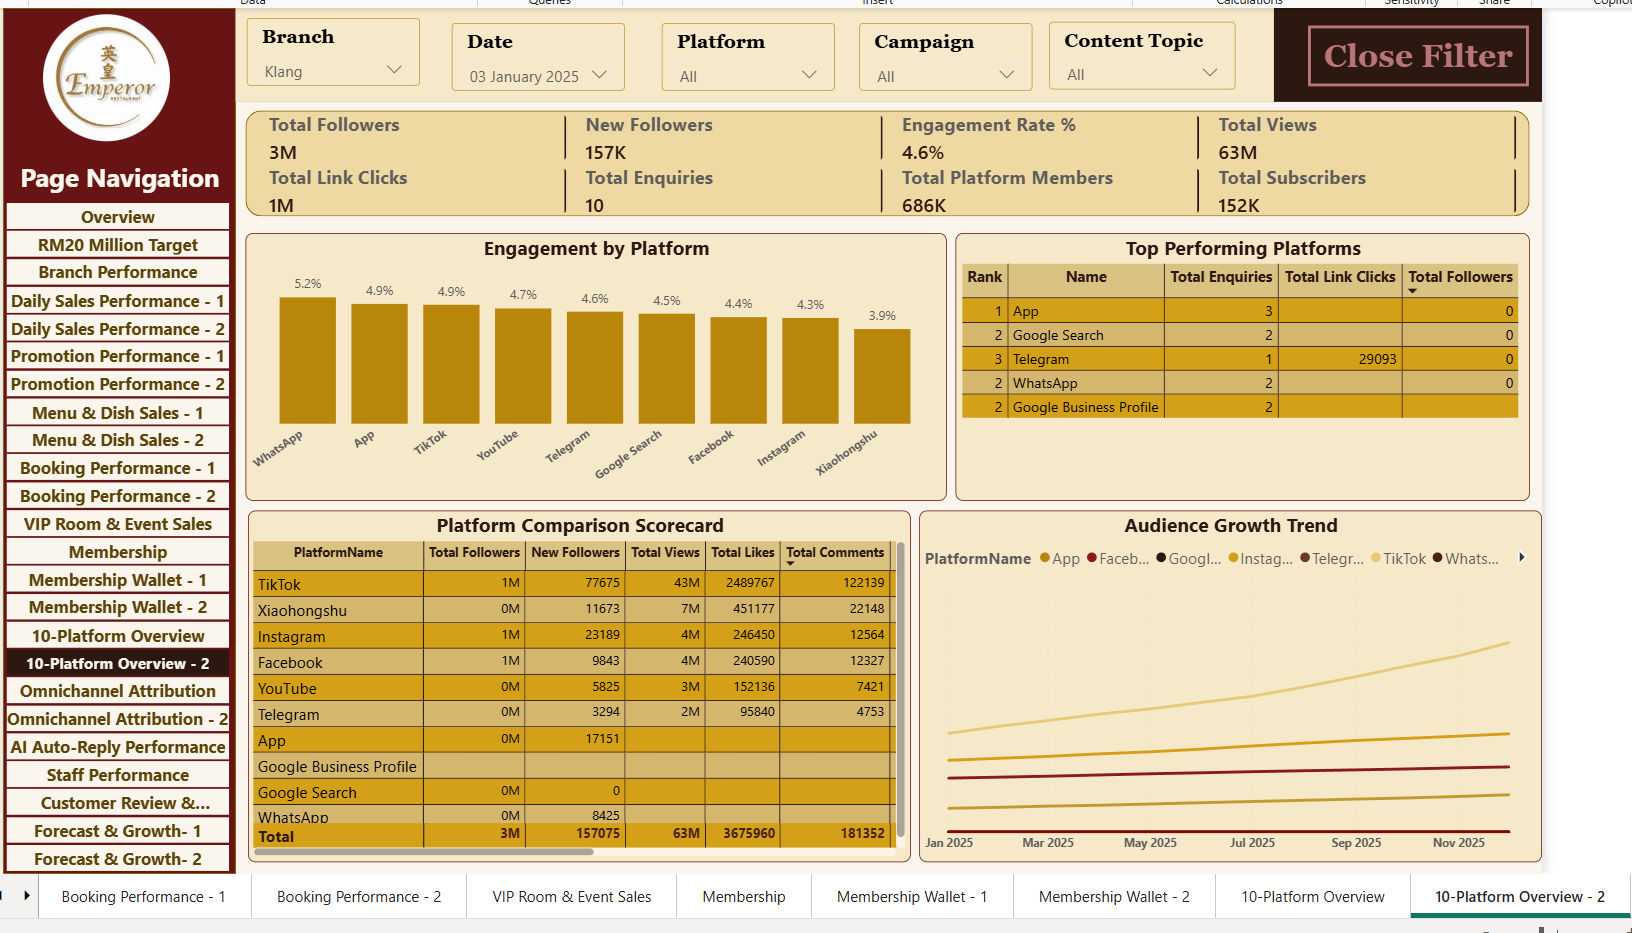

The dashboard page shown, as its layout file describes it:
{"tool":"powerbi","page":{"name":"10-Platform Overview - 2","canvas":[1600,900],"ordinal":16},"visuals":[{"type":"lineChart","title":"Audience Growth Trend","fields":{"Category":["Fact_PlatformFollowers.YearMonth"],"Series":["Dim_Platform.PlatformName"],"Y":["__DAX_Measures.Total Followers"]},"box":[952.8,521.9,647,365.6],"z":0},{"type":"clusteredColumnChart","title":"Engagement by Platform","fields":{"Category":["Dim_Platform.PlatformName"],"Y":["__DAX_Measures.Engagement Rate %"]},"box":[251.4,233.8,728.5,278.6],"z":1000},{"type":"pivotTable","title":"Platform Comparison Scorecard","fields":{"Rows":["Dim_Platform.PlatformName"],"Values":["__DAX_Measures.Total Followers","__DAX_Measures.New Followers","__DAX_Measures.Total Views","__DAX_Measures.Total Likes","__DAX_Measures.Total Comments","__DAX_Measures.Total Shares","__DAX_Measures.Total Link Clicks","__DAX_Measures.Total Enquiries","__DAX_Measures.Engagement Rate %"]},"box":[254.2,521.9,689.1,365.6],"z":2000},{"type":"tableEx","title":"Top Performing Platforms","fields":{"Values":["__DAX_Measures.Platform Rank","Dim_Platform.PlatformName","__DAX_Measures.Total Enquiries","__DAX_Measures.Total Link Clicks","__DAX_Measures.Total Followers"]},"box":[989.5,233.8,596.7,278.6],"z":3000},{"type":"shape","box":[0,0,242,900],"z":4000},{"type":"shape","box":[252.1,106.3,1334.5,110],"z":5000},{"type":"cardVisual","fields":{"Data":["__DAX_Measures.Total Followers","__DAX_Measures.New Followers","__DAX_Measures.Engagement Rate %","__DAX_Measures.Total Views","__DAX_Measures.Total Link Clicks","__DAX_Measures.Total Enquiries","__DAX_Measures.Total Platform Members","__DAX_Measures.Total Subscribers"]},"box":[253.9,99.5,1332.8,125.2],"z":6000},{"type":"textbox","box":[241.9,0,1358.5,97.8],"z":7000},{"type":"shape","box":[241.9,0,1078.9,97.8],"z":8000},{"type":"slicer","fields":{"Values":["Dim_Date.Date"]},"box":[466.6,15.4,180.1,70.3],"z":9000},{"type":"slicer","fields":{"Values":["Dim_Branch.BranchName"]},"box":[253.9,10.3,180.1,70.3],"z":10000},{"type":"slicer","fields":{"Values":["Dim_Platform.PlatformName"]},"box":[684.4,15.4,180.1,70.3],"z":11000},{"type":"slicer","fields":{"Values":["Fact_PlatformContent.ContentTopic"]},"box":[1087.5,13.7,193.8,70.3],"z":12000},{"type":"slicer","fields":{"Values":["Dim_Campaign.CampaignName"]},"box":[890.2,15.4,180.1,70.3],"z":13000},{"type":"actionButton","box":[1355.6,18.1,229.6,63.3],"z":14000},{"type":"image","box":[41.9,6.2,131.9,131.9],"z":16000},{"type":"pageNavigator","box":[4.4,202.3,231.1,697.7],"z":17000},{"type":"textbox","box":[0,152.6,242.7,46.5],"z":18000}]}

Visuals, with their boxes on the page's 1600x900 design canvas (x1, y1, x2, y2). These are canvas units, not pixel positions in the 1632x933 screenshot, which may show the page scaled, cropped or inside an application window:
"Audience Growth Trend" lineChart: 953/522/1600/888
"Engagement by Platform" clusteredColumnChart: 251/234/980/512
"Platform Comparison Scorecard" pivotTable: 254/522/943/888
"Top Performing Platforms" tableEx: 990/234/1586/512
shape: 0/0/242/900
shape: 252/106/1587/216
cardVisual - __DAX_Measures.Total Followers x __DAX_Measures.New Followers: 254/100/1587/225
textbox: 242/0/1600/98
shape: 242/0/1321/98
slicer - Dim_Date.Date: 467/15/647/86
slicer - Dim_Branch.BranchName: 254/10/434/81
slicer - Dim_Platform.PlatformName: 684/15/864/86
slicer - Fact_PlatformContent.ContentTopic: 1088/14/1281/84
slicer - Dim_Campaign.CampaignName: 890/15/1070/86
actionButton: 1356/18/1585/81
image: 42/6/174/138
pageNavigator: 4/202/236/900
textbox: 0/153/243/199
